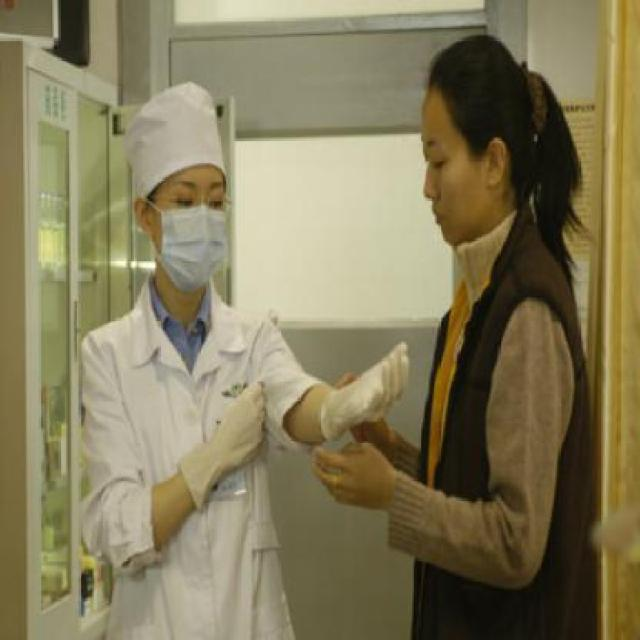face_mask: (134, 166, 238, 294)
face_nomask: (400, 120, 491, 243)
glasses: (164, 182, 233, 220)
hand_glove: (335, 340, 414, 429), (214, 383, 268, 474)
hand_noglove: (309, 438, 388, 512), (336, 372, 386, 442)
head_nohelmet: (408, 32, 517, 116)
person: (335, 18, 640, 640), (64, 80, 373, 640)
